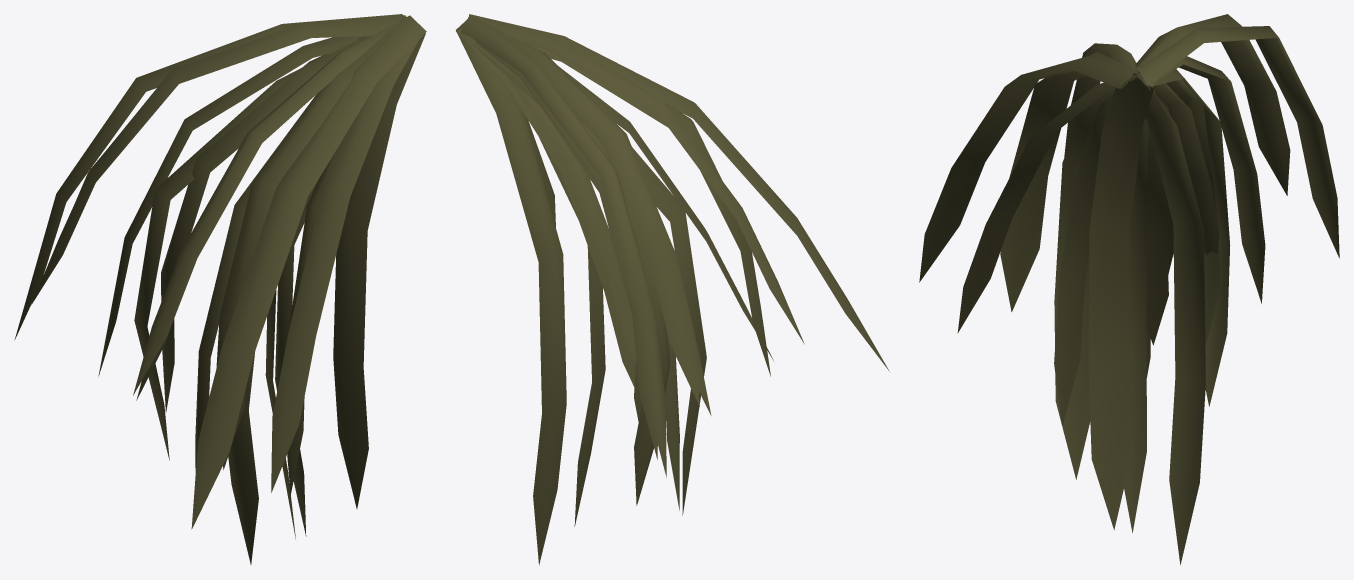
The model's file is foliage_spiky_002.fbx.
3 renders of one model, left to right at view 1: azimuth 30°, elevation 25°; view 2: azimuth 150°, elevation 25°; view 3: azimuth 270°, elevation 25°, orthographic. The views are drawn at different scales.
Parts seen in each view (by area): view 1: Foliage_Spiky_02; view 2: Foliage_Spiky_02; view 3: Foliage_Spiky_02.
Part boxes in pixels (bbox=[...]): Foliage_Spiky_02: bbox=[14, 14, 426, 564]; Foliage_Spiky_02: bbox=[455, 14, 889, 565]; Foliage_Spiky_02: bbox=[919, 14, 1339, 565].
Size of the model in its own units: 82.33 by 124 by 86.97.
